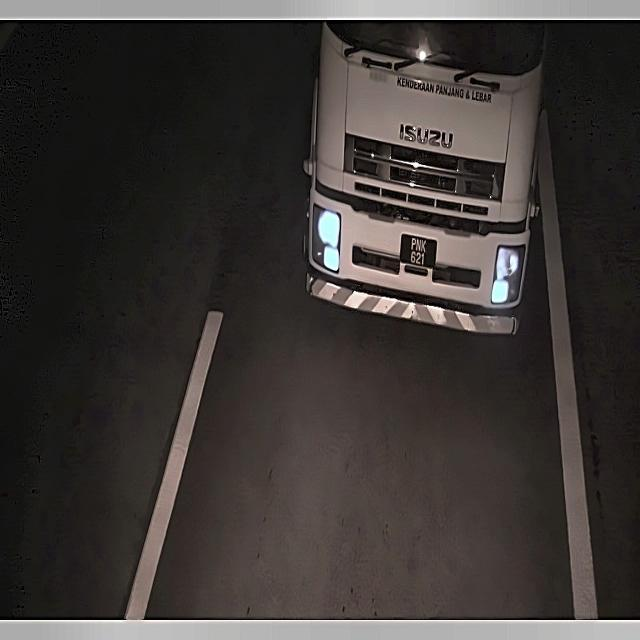car: (396, 228, 440, 271)
